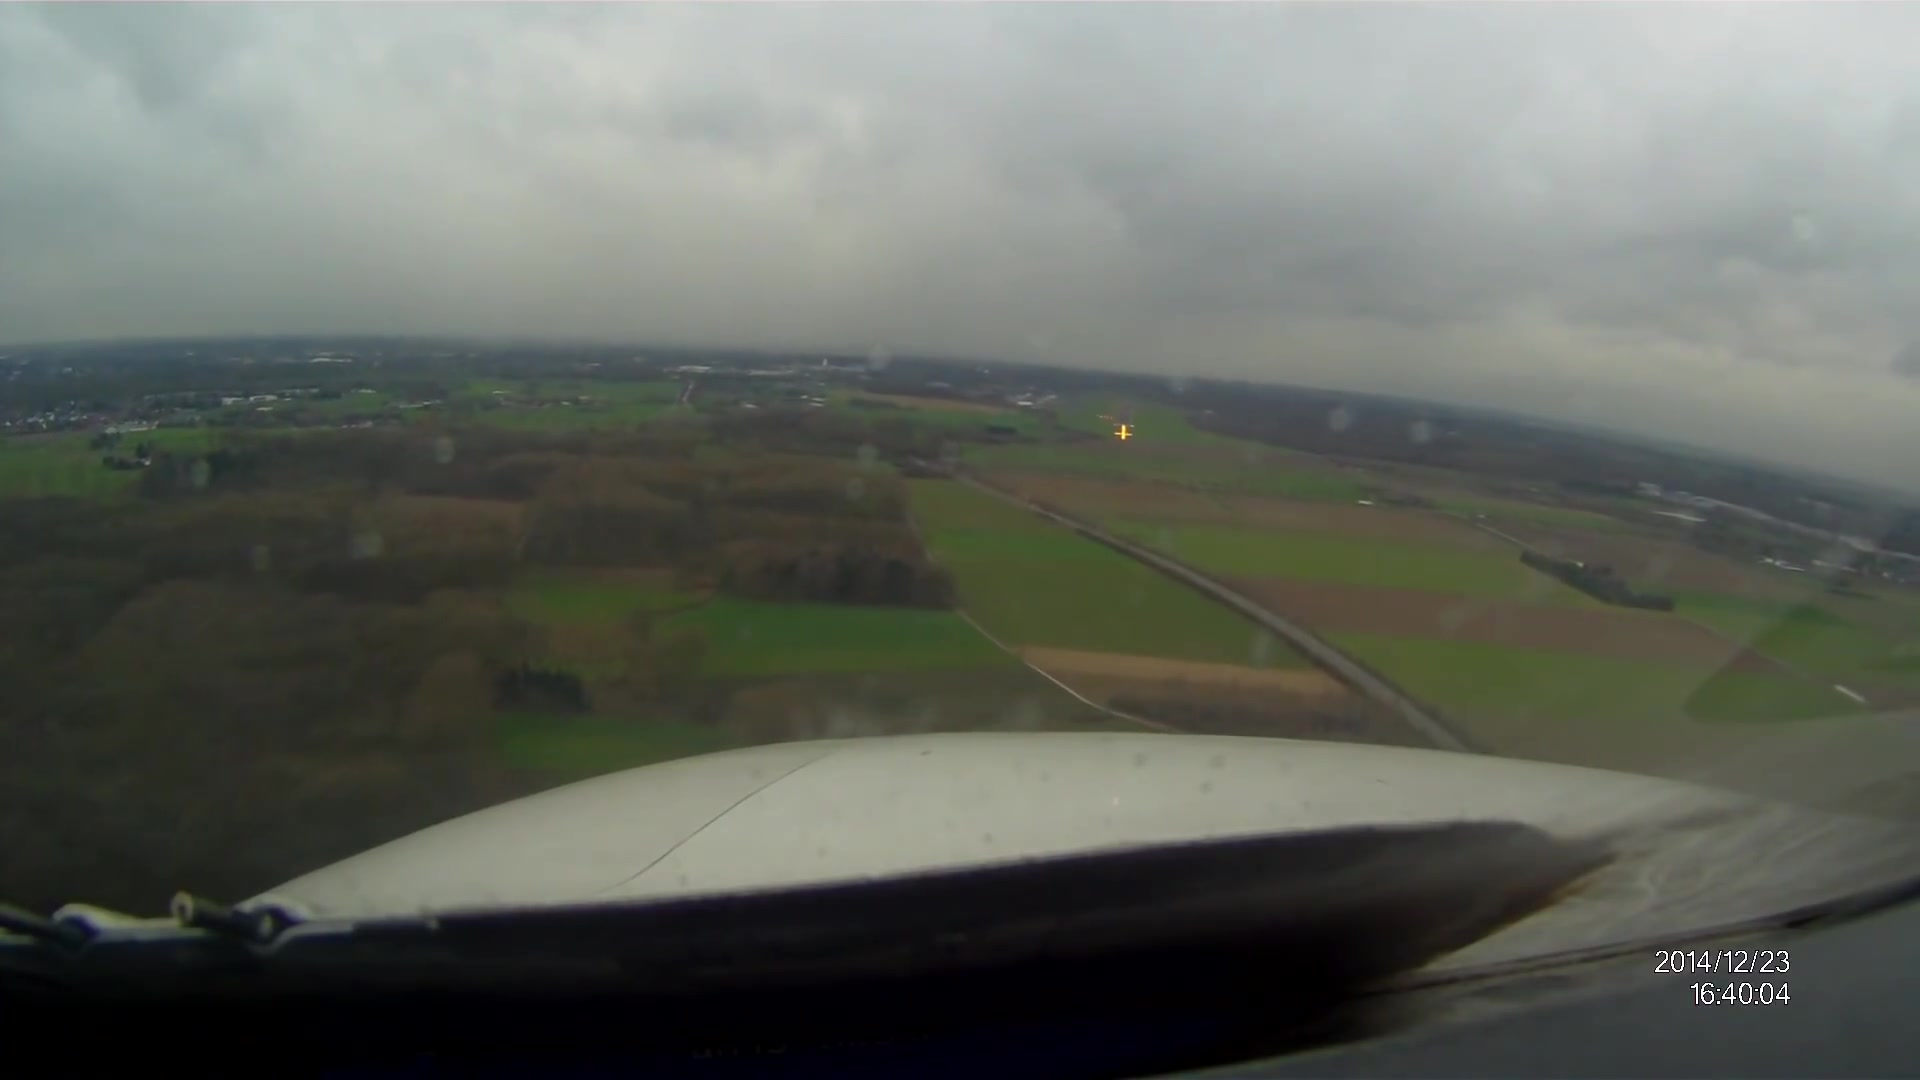runway: (1112, 389, 1139, 438)
